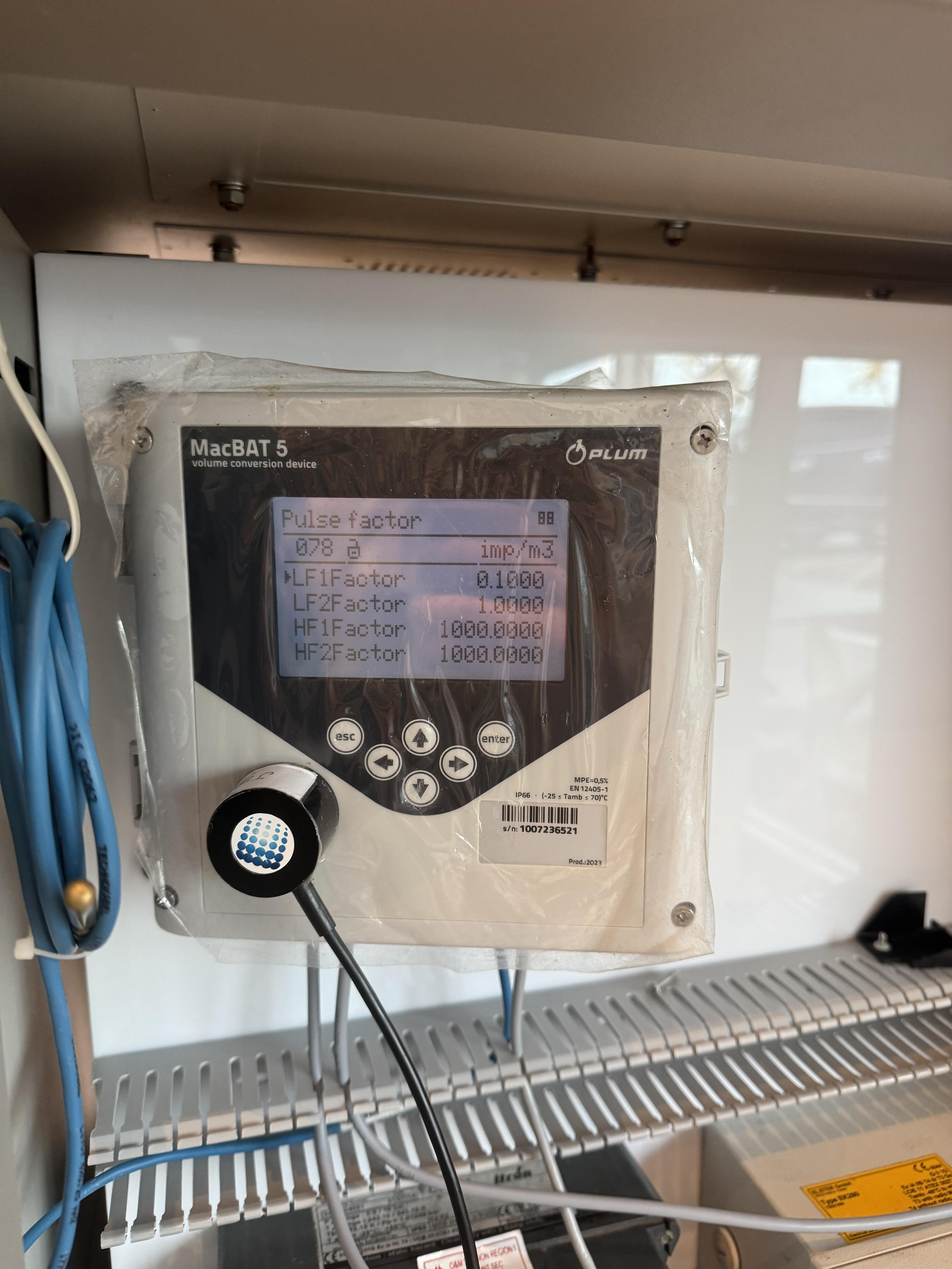digital_screen: (269, 495, 567, 682)
